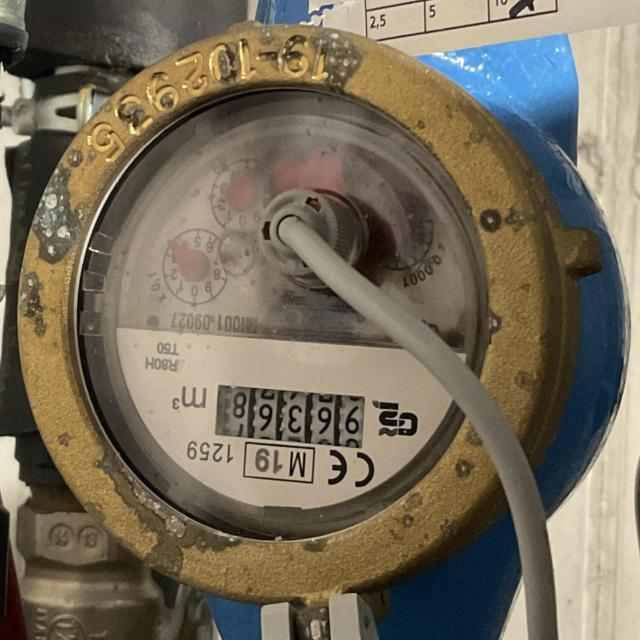gaz_meter: (103, 109, 480, 513)
indication: (217, 387, 364, 446)
